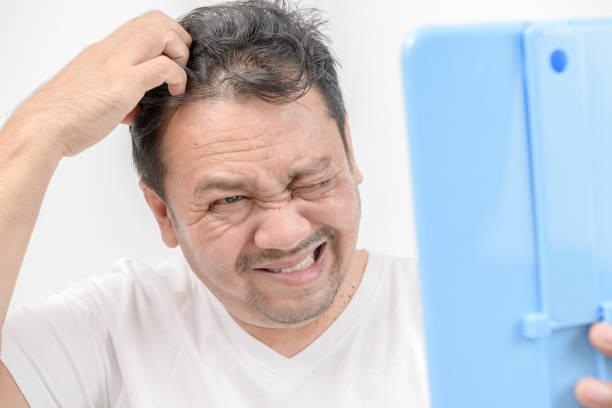dry hair: (286, 1, 331, 79)
low hair density: (206, 54, 251, 93)
